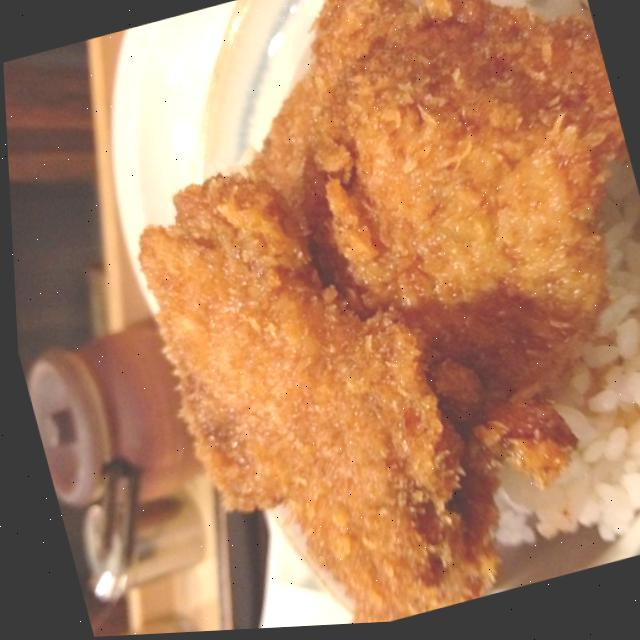牛肉菜式: (52, 0, 640, 638)
